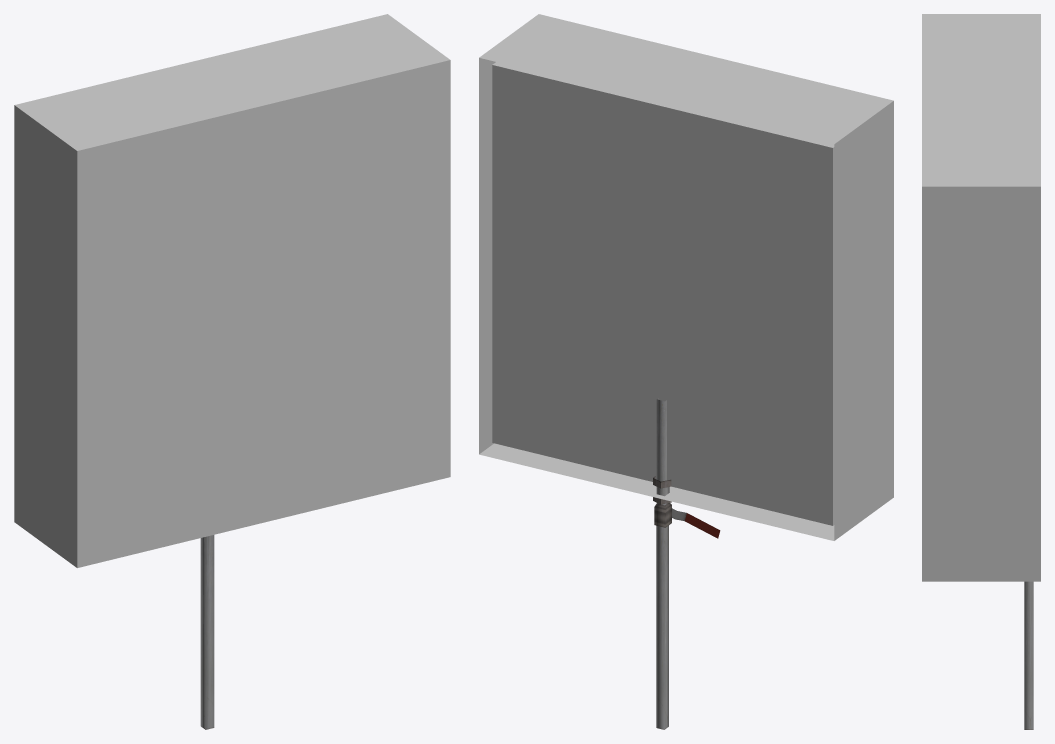
Rendered from ms_fire_hosebox_glass_lod2.fbx.
The picture shows the model from 3 angles, left to right: view 1: azimuth 30°, elevation 25°; view 2: azimuth 150°, elevation 25°; view 3: azimuth 270°, elevation 25°; orthographic projection. The views are drawn at different scales.
Visible parts, largest first — view 1: ms_fire_hosebox_glass_lod2; view 2: ms_fire_hosebox_glass_lod2; view 3: ms_fire_hosebox_glass_lod2.
Boxes of the visible parts, x1,y1,x2,y2 form: ms_fire_hosebox_glass_lod2: (14,14,450,729); ms_fire_hosebox_glass_lod2: (479,14,893,729); ms_fire_hosebox_glass_lod2: (922,14,1040,729).
Bounding box in the file's own units: 73.95 × 125 × 21.55.
